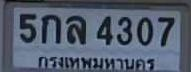0: (136, 16, 152, 45)
3: (116, 16, 131, 44)
4: (96, 15, 112, 44)
5: (19, 13, 35, 42)
7: (157, 16, 174, 46)
A01: (41, 14, 60, 42)
A36: (65, 15, 85, 43)
BKK: (35, 52, 156, 72)
